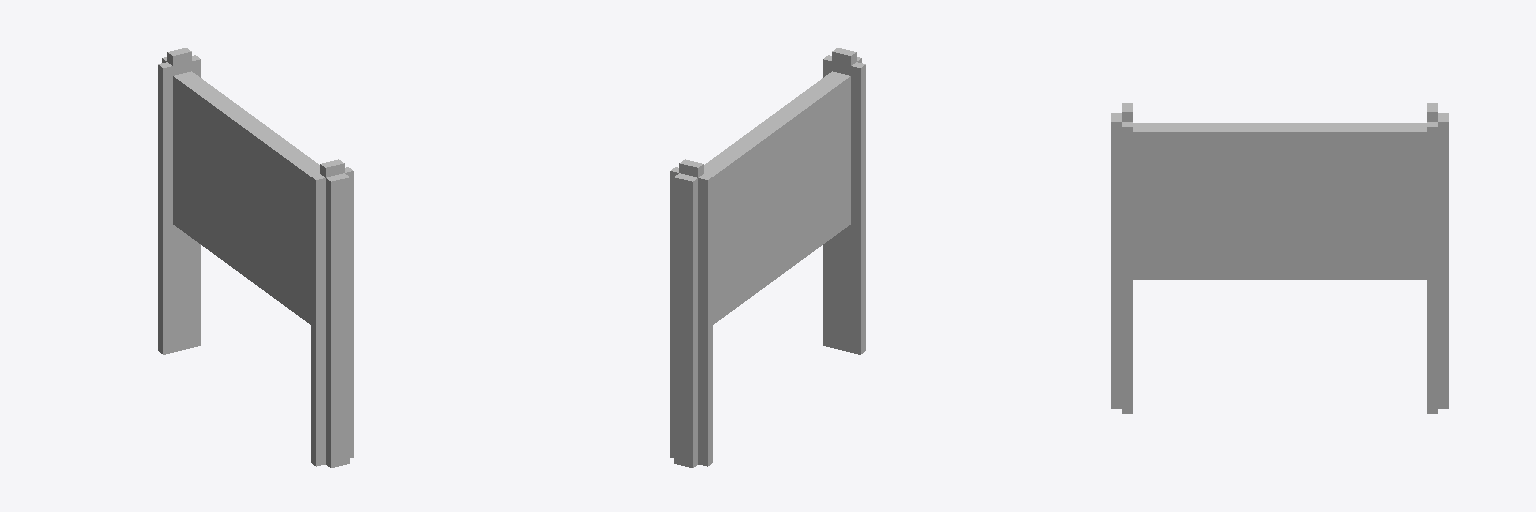
The model's file is housing.obj.
3 renders of one model, left to right at view 1: azimuth 30°, elevation 25°; view 2: azimuth 150°, elevation 25°; view 3: azimuth 270°, elevation 25°, orthographic.
Parts seen in each view (by area): view 1: object 1; view 2: object 1; view 3: object 1.
Boxes of the visible parts, x1,y1,x2,y2 form: object 1: [158, 48, 353, 467]; object 1: [670, 48, 865, 467]; object 1: [1111, 103, 1448, 413].
Bounding box in the file's own units: 0.4 × 3 × 3.1.